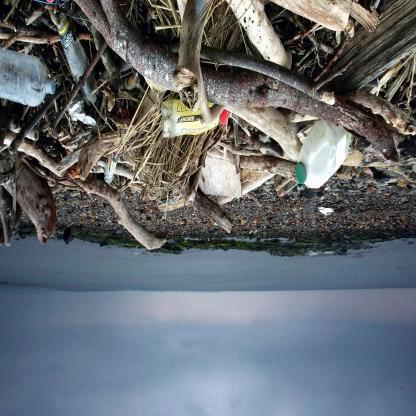Glass: (54, 16, 100, 107)
Metal: (66, 93, 97, 126)
Plastic: (291, 114, 352, 193), (0, 46, 56, 114), (160, 96, 234, 140), (102, 148, 123, 190)
